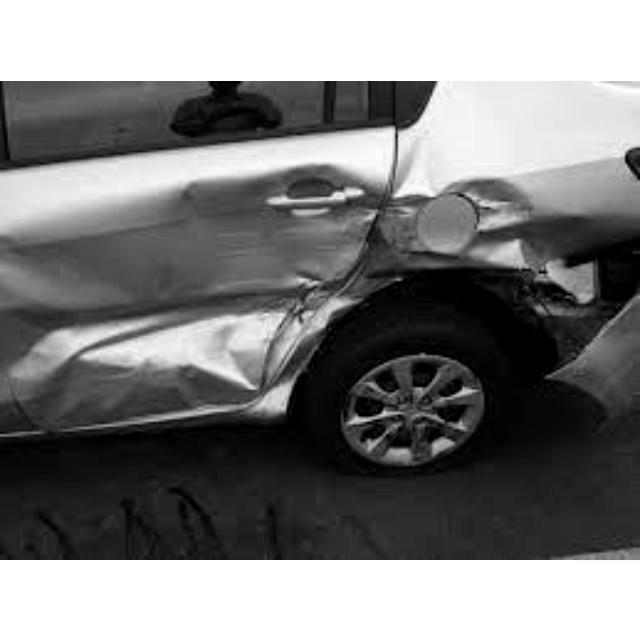doorouter-dent: (6, 142, 379, 416)
quaterpanel-dent: (391, 130, 630, 320)
